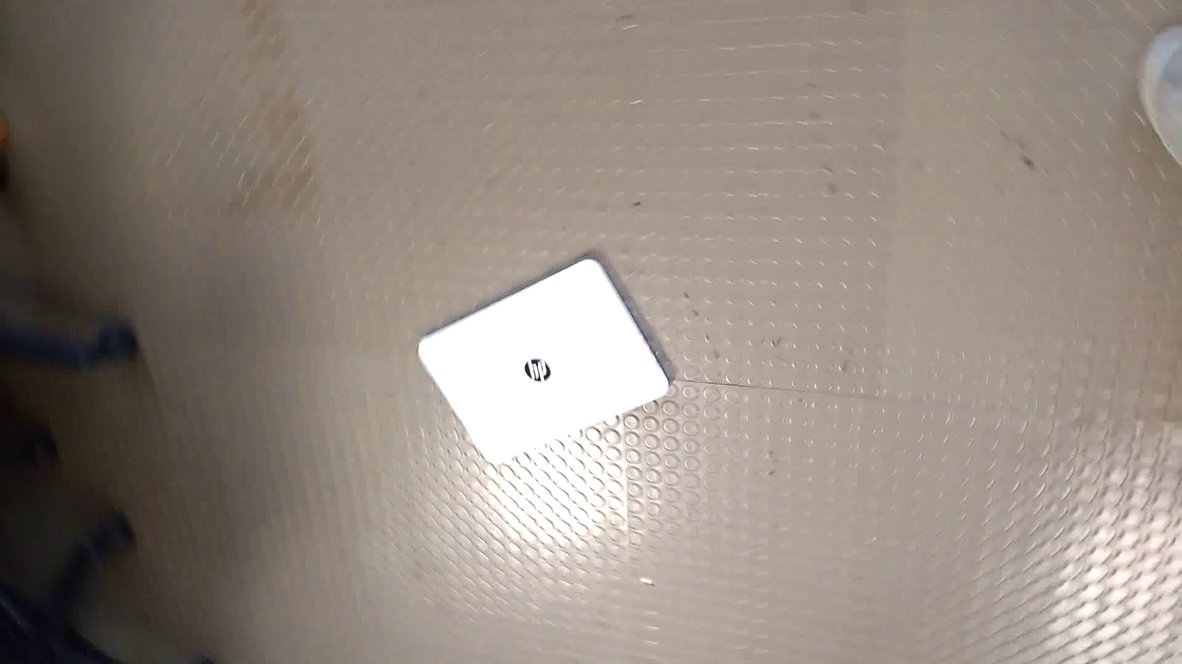laptop: (409, 252, 684, 471)
